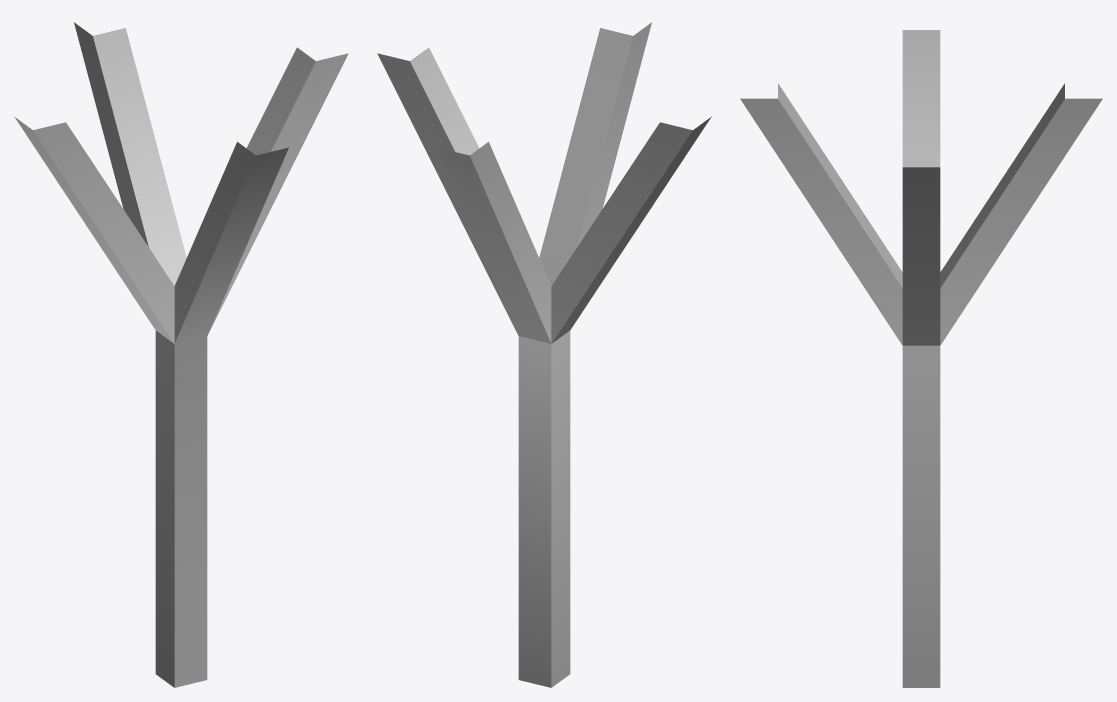
Rendered from AMB_IZM_O2_HASHIRA.glb.
3 renders of one model, left to right at view 1: azimuth 30°, elevation 25°; view 2: azimuth 150°, elevation 25°; view 3: azimuth 270°, elevation 25°, orthographic.
Visible parts, largest first — view 1: BASE; view 2: BASE; view 3: BASE.
Part boxes in pixels (left/top/right/bottom): BASE: left=14, top=22, right=348, bottom=687; BASE: left=377, top=22, right=711, bottom=687; BASE: left=740, top=30, right=1102, bottom=687.
Bounding box in the file's own units: 12.28 × 22 × 12.28.
Materials: 1 (1 with a texture image).
